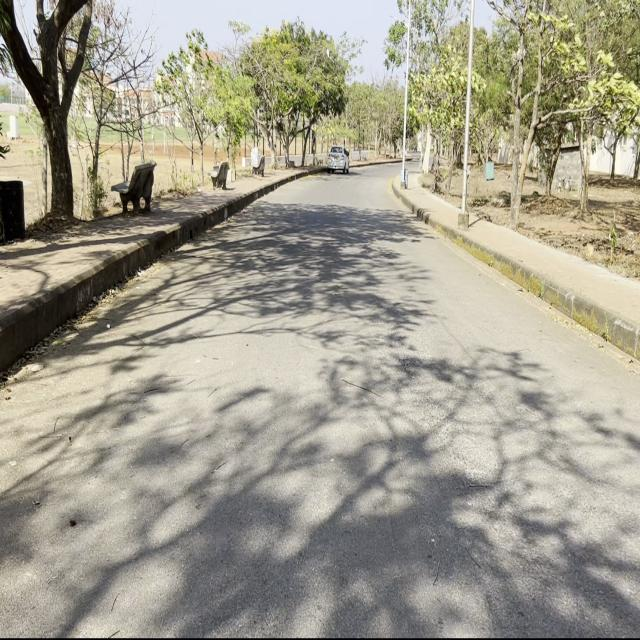Object: (324, 138, 350, 180)
Road: (5, 168, 636, 629)
